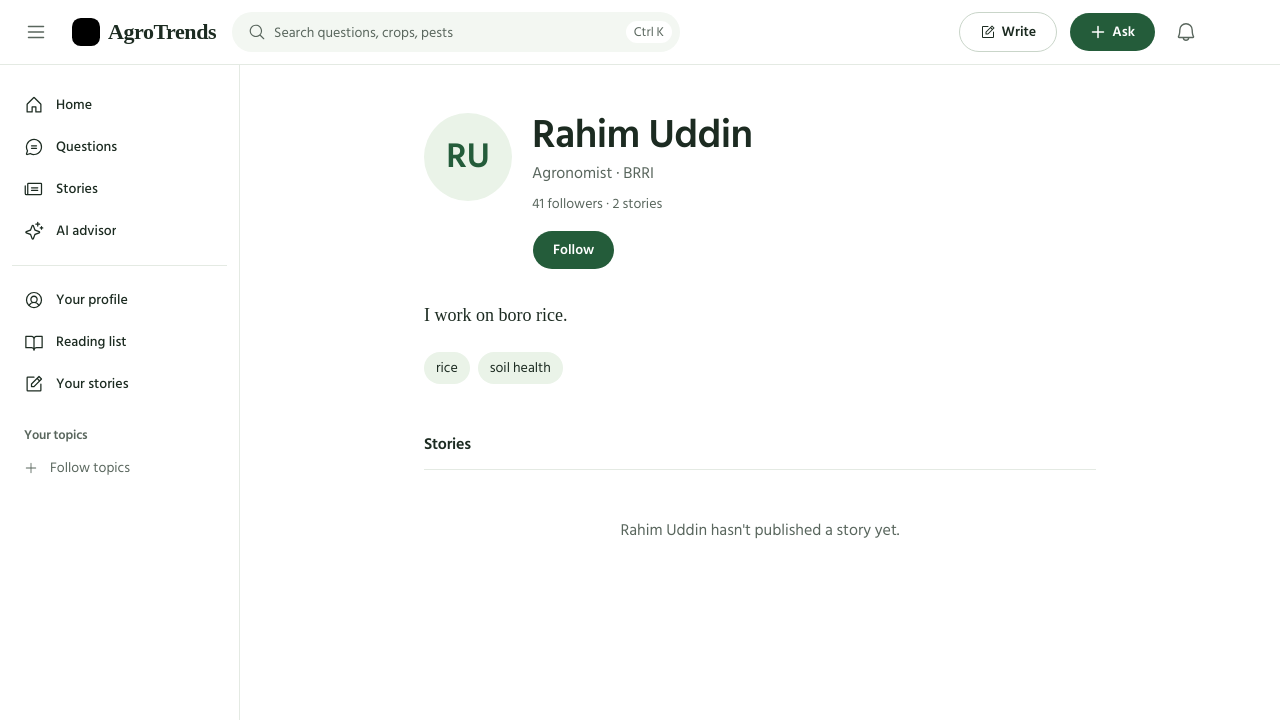
Test case: following updates the count at once and survives the reload
Click the button with aria-label "Follow Rahim Uddin" at (574, 250), box [532,230,615,270]
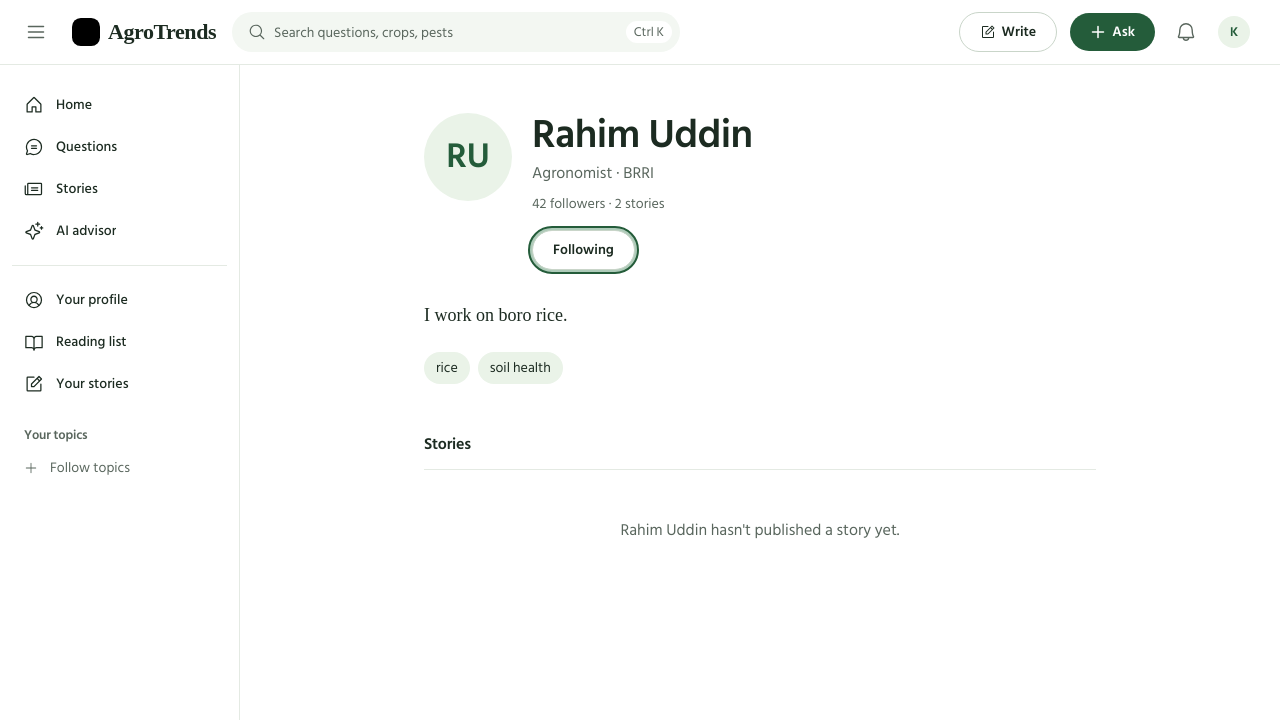
Result: the text "42 followers · 2 stories" is shown at [532,192,665,215]
